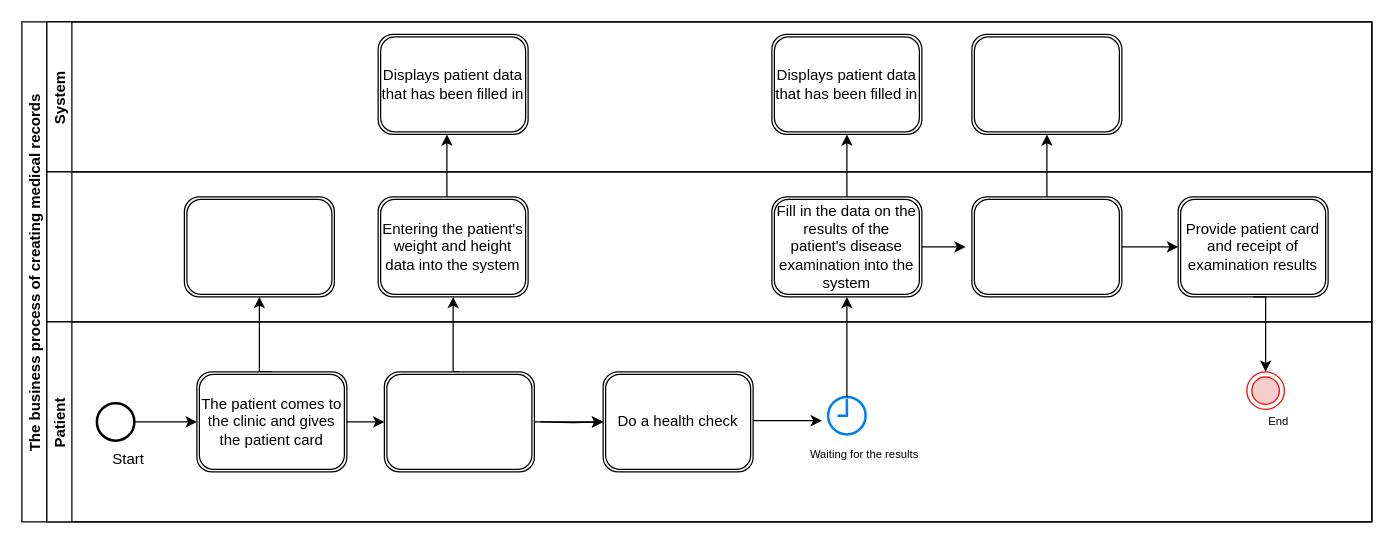
The diagram is 1394 pixels wide and 544 high, and some of its shapes have lost their labels. The box of each missing label's shape, as (x1, y1, x2, y2) in pixels:
Checking weight and height: (383, 371, 534, 472)
Displays patient data successfully filled in and saved to the database: (971, 33, 1122, 134)
Employee: (46, 171, 1372, 322)
Fill in the patient data contained in the card: (183, 196, 334, 297)
Store examination results and patient data in the system: (971, 196, 1122, 297)
